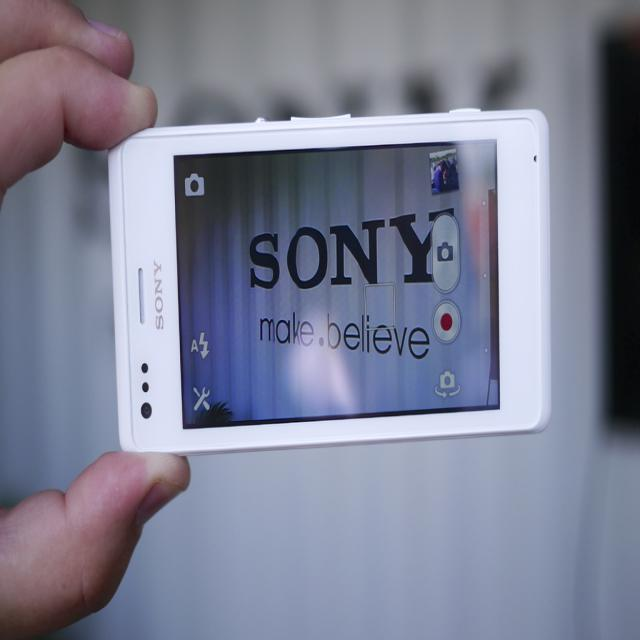Mobile-phone: (106, 108, 554, 460)
